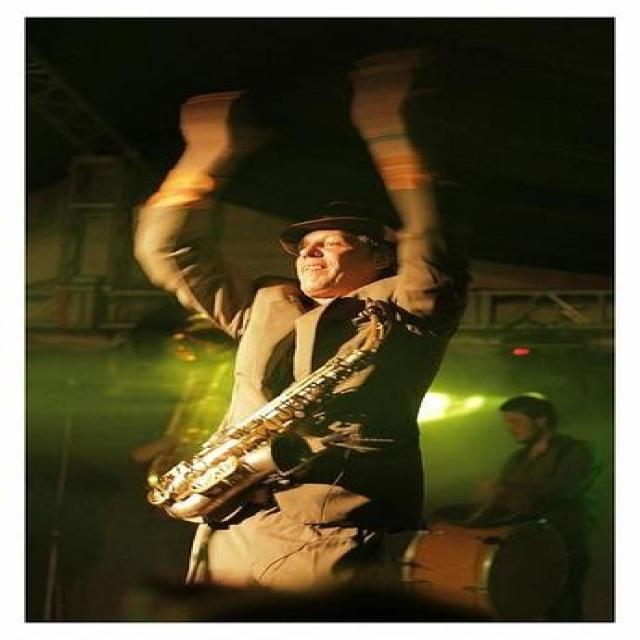saxophone: (145, 310, 402, 525)
